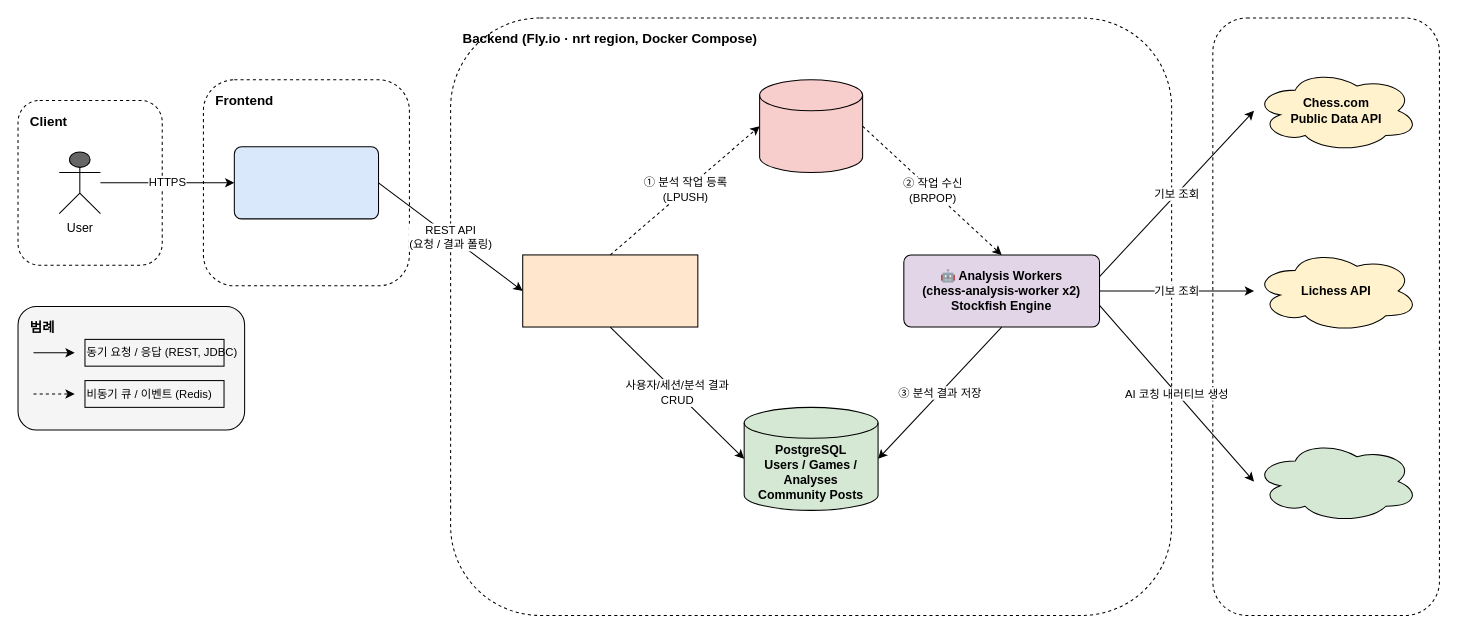
Image size: 1457x633. Some labels were removed from this diagram. Here are the shapes that lost their labels. From the top down, the box of each, then its label:
(759, 79, 863, 173): Redis Job Queue (chess-analysis-queue)
(233, 146, 379, 219): 🖥️ Next.js Frontend (chess-analysis-frontend)
(522, 254, 698, 327): ⚙️ Spring Boot API (chess-analysis-api) Auth / REST / WebSocket
(1212, 17, 1439, 615): External APIs
(1253, 439, 1419, 523): Groq LLM API Llama 3.3 70B AI Narrative
